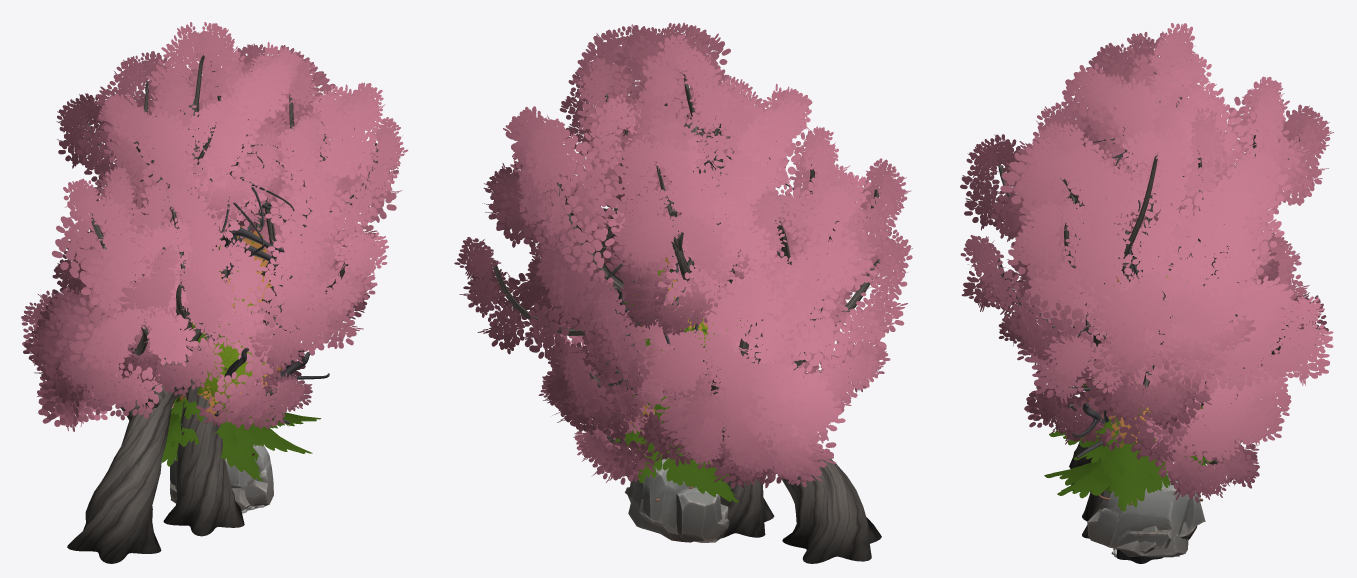
Rendered from nature-meadow.glb.
3 views of the same model, side by side, from view 1: azimuth 30°, elevation 25°; view 2: azimuth 150°, elevation 25°; view 3: azimuth 270°, elevation 25° (orthographic). The views are drawn at different scales.
Visible parts, largest first — view 1: tree.twisted#0, tree.twisted#1, tree.pine#2, tree.dead#1, rock.boulder#2, tree.broadleaf#2, tree.dead#0, tree.pine#0, rock.boulder#0, tree.blossom#0; view 2: tree.twisted#0, tree.twisted#1, rock.boulder#2, tree.pine#2; view 3: tree.twisted#0, tree.twisted#1, rock.boulder#2, tree.pine#2, rock.boulder#1, tree.pine#0, tree.dead#1, tree.dead#0, rock.boulder#0.
Part boxes in pixels (x1,y1,x2,y2): tree.twisted#0: [23, 22, 402, 563]; tree.twisted#1: [21, 34, 408, 536]; tree.pine#2: [161, 249, 321, 510]; tree.dead#1: [140, 126, 321, 323]; rock.boulder#2: [170, 444, 273, 506]; tree.broadleaf#2: [176, 230, 265, 402]; tree.dead#0: [192, 225, 329, 423]; tree.pine#0: [168, 376, 277, 455]; rock.boulder#0: [175, 457, 254, 510]; tree.blossom#0: [183, 335, 273, 426]; tree.twisted#0: [454, 24, 912, 563]; tree.twisted#1: [538, 22, 911, 538]; rock.boulder#2: [625, 458, 729, 541]; tree.pine#2: [624, 266, 739, 502]; tree.twisted#0: [960, 23, 1333, 491]; tree.twisted#1: [960, 37, 1333, 538]; rock.boulder#2: [1087, 470, 1205, 548]; tree.pine#2: [1044, 400, 1223, 511]; rock.boulder#1: [1116, 535, 1188, 557]; tree.pine#0: [1073, 408, 1212, 501]; tree.dead#1: [1056, 138, 1251, 563]; tree.dead#0: [1052, 276, 1225, 458]; rock.boulder#0: [1102, 490, 1197, 553].
Size of what is drawn, in the model's own units: 13.52 by 16.73 by 11.55.
17 materials, 17 textured.
